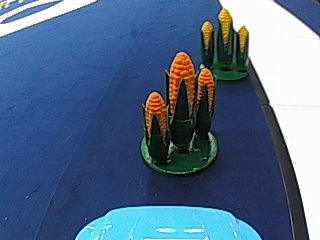corn: (137, 51, 221, 176), (197, 6, 252, 81)
